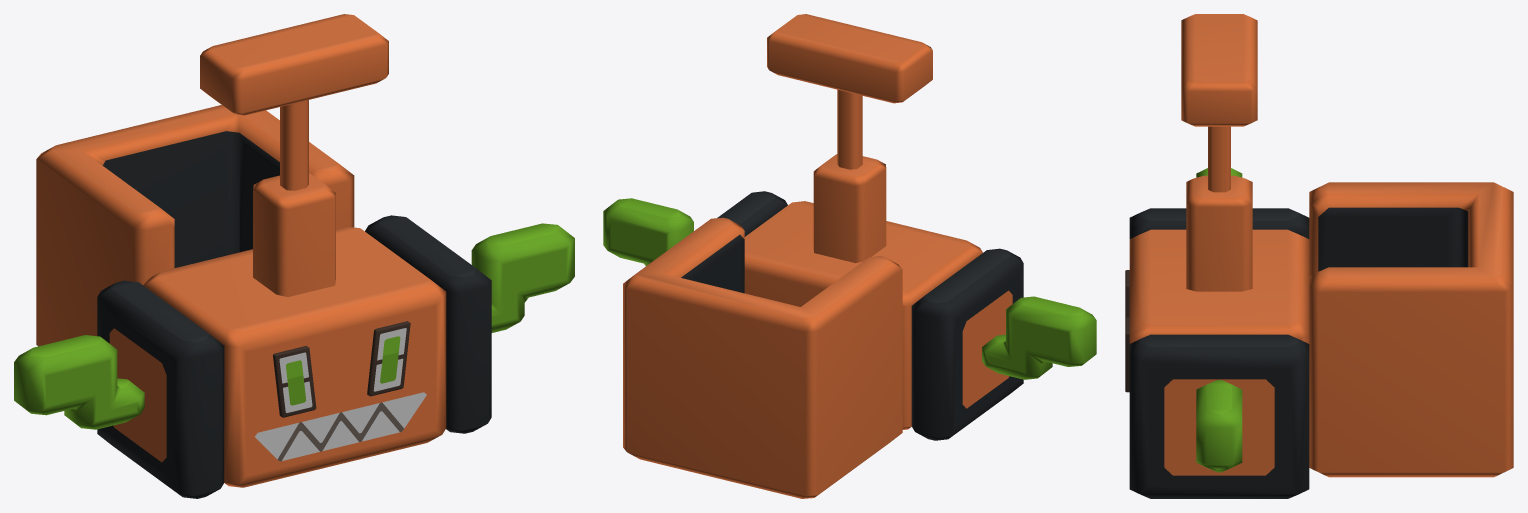
The picture shows the model from 3 angles, left to right: view 1: azimuth 30°, elevation 25°; view 2: azimuth 150°, elevation 25°; view 3: azimuth 270°, elevation 25°; orthographic projection. The views are drawn at different scales.
Parts seen in each view (by area): view 1: model; view 2: model; view 3: model.
Part boxes in pixels (x1,y1,x2,y2): model: (14,14,574,498); model: (603,14,1096,498); model: (1125,14,1513,498).
Size of the model in its own units: 2.52 by 1.73 by 1.6.
